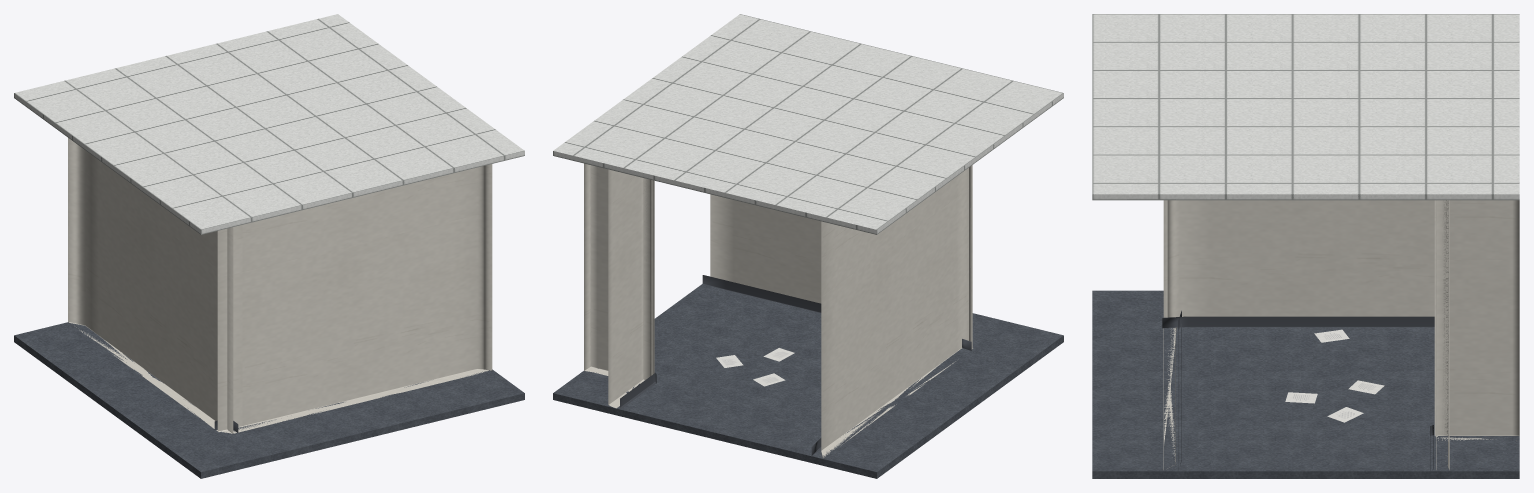
Rendered from hallway_corner.glb.
The picture shows the model from 3 angles, left to right: view 1: azimuth 30°, elevation 25°; view 2: azimuth 150°, elevation 25°; view 3: azimuth 270°, elevation 25°; orthographic projection. The views are drawn at different scales.
Parts seen in each view (by area): view 1: Hallway_Corner; view 2: Hallway_Corner; view 3: Hallway_Corner.
Boxes of the visible parts, left/top/right/bottom form: Hallway_Corner: left=14, top=14, right=524, bottom=478; Hallway_Corner: left=553, top=14, right=1063, bottom=478; Hallway_Corner: left=1092, top=14, right=1519, bottom=478.
Bounding box in the file's own units: 4 × 2.94 × 4.
Materials: 7 (5 with a texture image).
